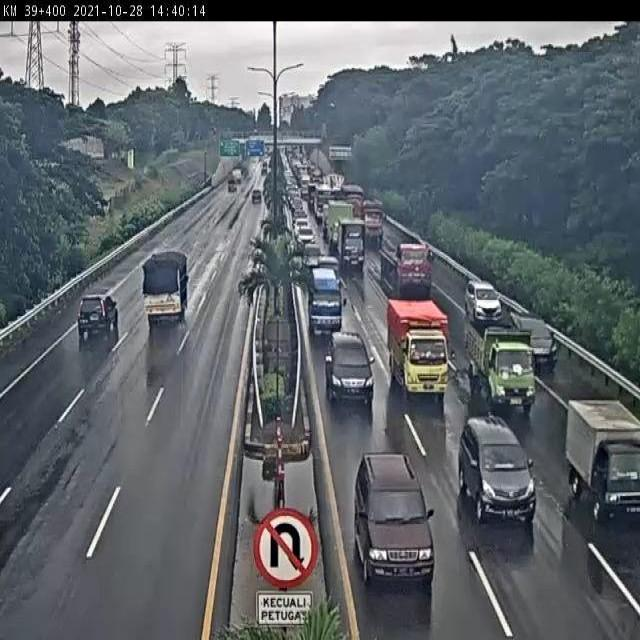bus-s-: (306, 266, 347, 338)
car: (348, 445, 439, 588), (455, 412, 538, 527), (324, 328, 377, 405), (508, 308, 560, 365), (460, 276, 502, 325), (78, 292, 116, 335), (300, 242, 327, 278), (315, 254, 341, 286)
small truck: (145, 251, 188, 317)
truck-m-: (384, 296, 457, 403), (468, 331, 537, 413), (338, 216, 369, 275)
truck-s-: (565, 397, 640, 523)
truck-xl-: (380, 236, 437, 297)
